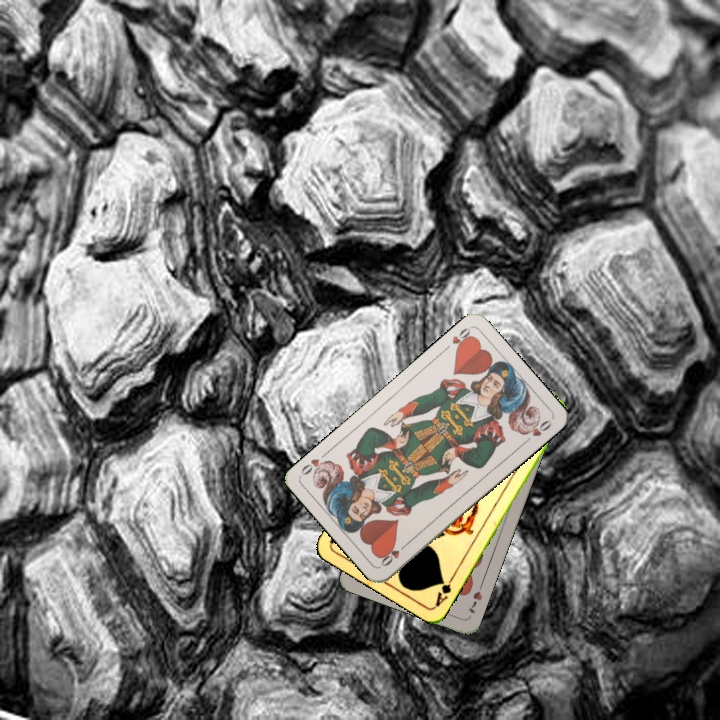GA: (431, 571, 457, 609)
H7: (464, 580, 485, 616)
HO: (439, 323, 476, 354), (377, 539, 411, 569)
